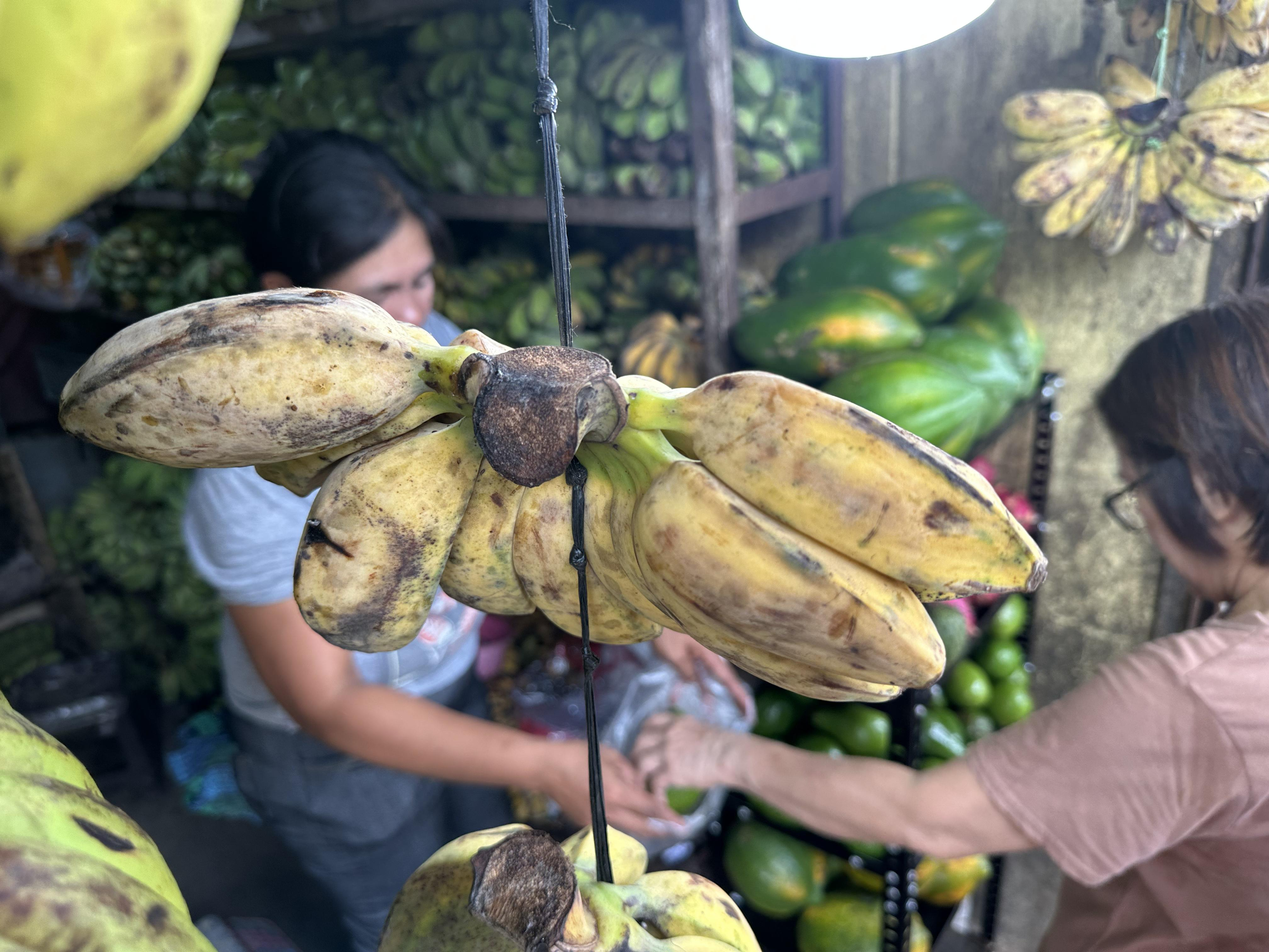ripe: (60, 288, 1046, 701)
